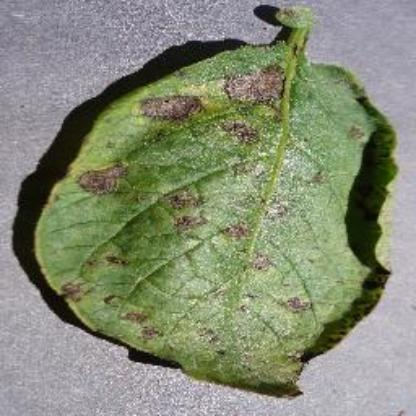Early-Blight: (28, 0, 416, 402)
